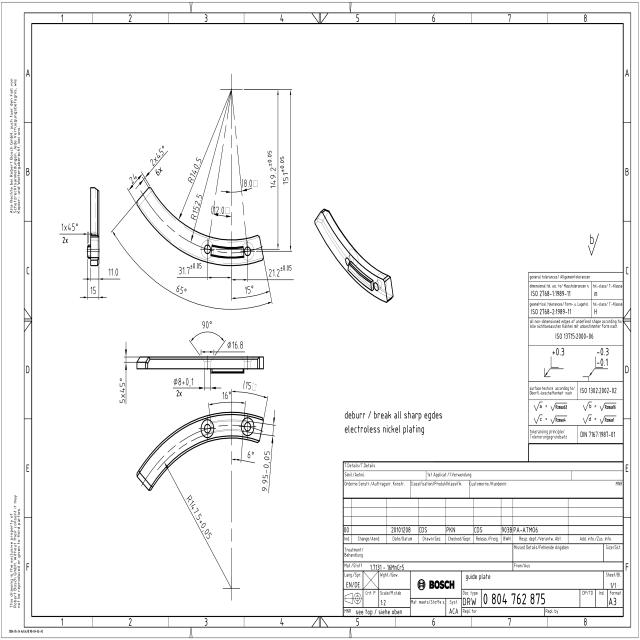dimension: (184, 491, 214, 542), (148, 143, 168, 178), (186, 154, 204, 185), (172, 375, 196, 398), (59, 221, 80, 245), (260, 449, 271, 494), (189, 192, 204, 222), (267, 148, 276, 190), (267, 263, 293, 277), (178, 261, 202, 276), (279, 154, 289, 186), (211, 203, 231, 215), (118, 376, 126, 405), (242, 378, 258, 392), (126, 169, 138, 187), (240, 177, 258, 189), (227, 339, 244, 350), (176, 282, 188, 296), (201, 318, 213, 331), (244, 283, 255, 296), (108, 266, 120, 277), (221, 390, 232, 400), (89, 284, 97, 296), (246, 449, 255, 459)
